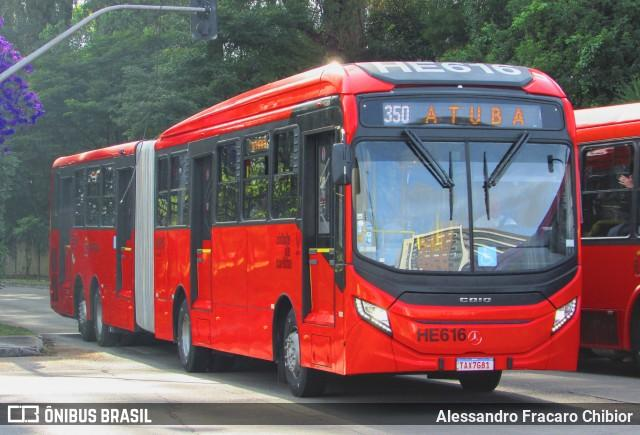ATUBA: (421, 100, 532, 131)
